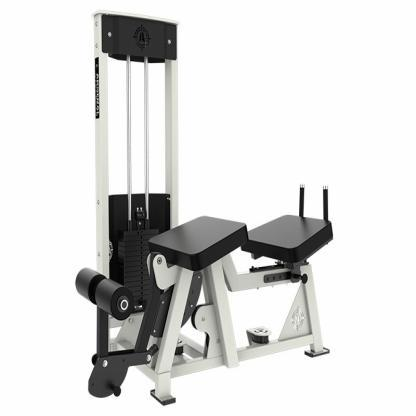reg curl machine: (76, 10, 334, 406)
